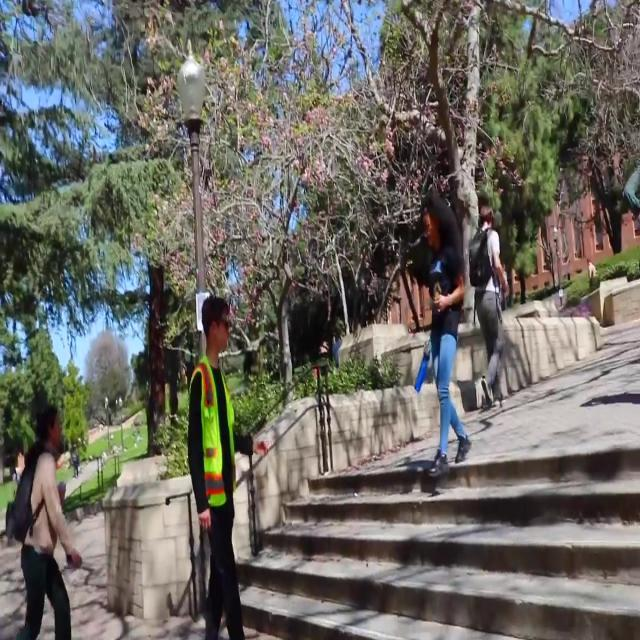reflective_jacket: (183, 354, 240, 524)
